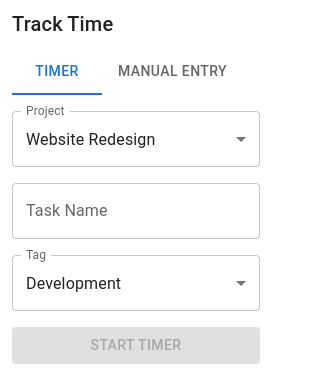
it: TimeTracker Component › switches between timer and manual entry tabs
Click the tab "Manual Entry". click: [172, 71]
box: [102,47,243,95]
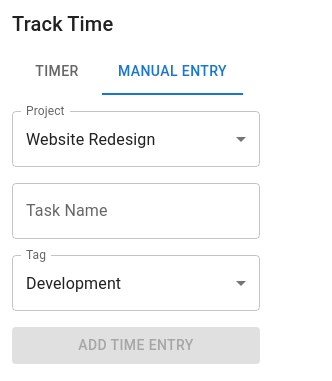
Now the button "Add Time Entry" is shown, box [12,327,260,364]
Now the button "Start Timer" is gone
